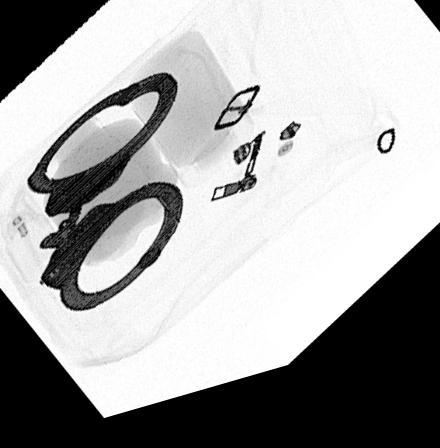HandCuffs: (23, 80, 184, 316)
